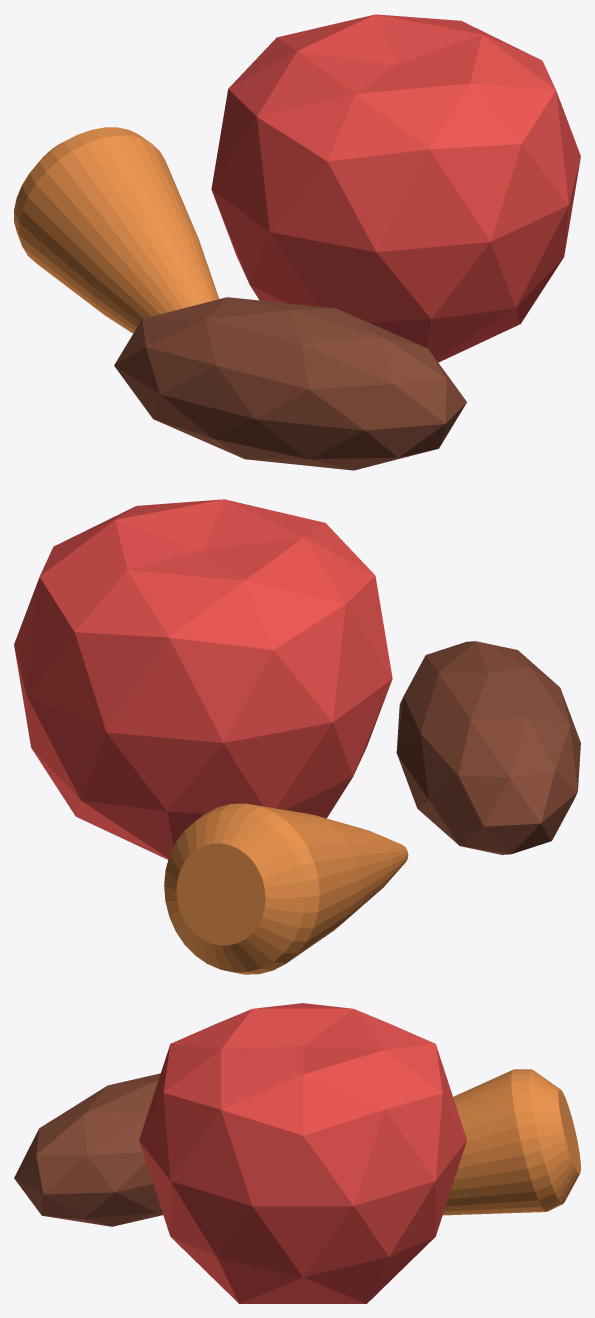
The model's file is vegitables_uncooked.fbx.
3 views of the same model, one above another, from view 1: azimuth 30°, elevation 25°; view 2: azimuth 150°, elevation 25°; view 3: azimuth 270°, elevation 25° (orthographic). The views are drawn at different scales.
Parts seen in each view (by area): view 1: Icosphere, Icosphere.001, Cone; view 2: Icosphere, Icosphere.001, Cone; view 3: Icosphere, Cone, Icosphere.001.
Boxes of the visible parts, x1,y1,x2,y2 form: Icosphere: [211, 14, 580, 362]; Icosphere.001: [114, 297, 466, 470]; Cone: [14, 127, 218, 333]; Icosphere: [14, 499, 392, 859]; Icosphere.001: [396, 641, 580, 854]; Cone: [164, 803, 408, 974]; Icosphere: [139, 1003, 466, 1303]; Cone: [443, 1069, 580, 1215]; Icosphere.001: [14, 1073, 162, 1226].
Size of the model in its own units: 282 by 170 by 346.
